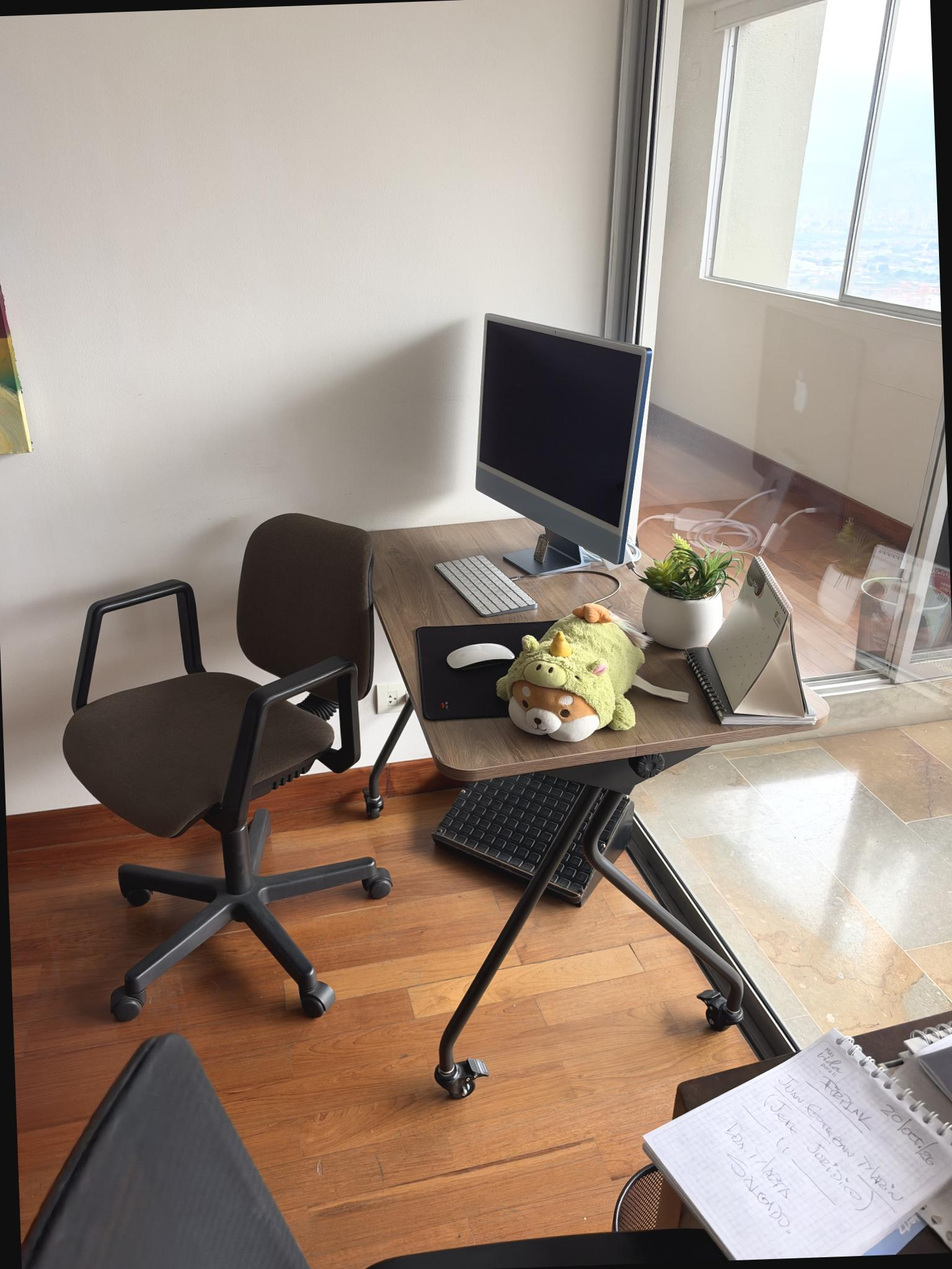peluche_martin: (492, 601, 656, 746)
